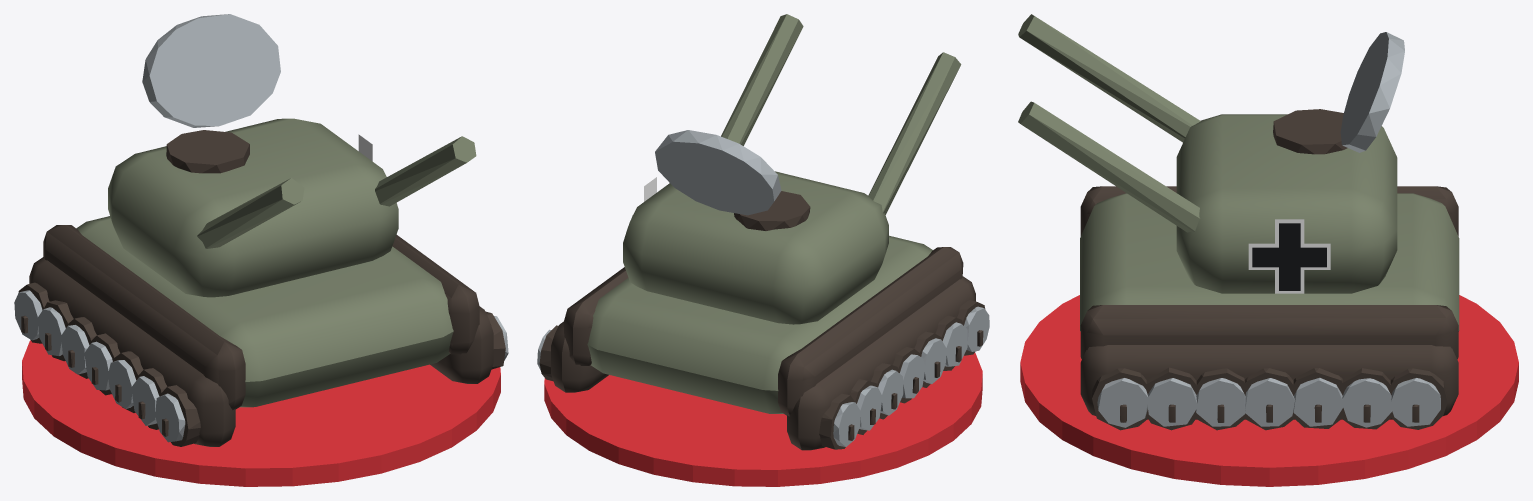
Rendered from germany_anti_aircraft_lod0.glb.
The picture shows the model from 3 angles, left to right: view 1: azimuth 30°, elevation 25°; view 2: azimuth 150°, elevation 25°; view 3: azimuth 270°, elevation 25°; orthographic projection. The views are drawn at different scales.
Visible parts, largest first — view 1: body_hull, base_pedestal; view 2: body_hull, base_pedestal; view 3: body_hull, base_pedestal.
Boxes of the visible parts, bbox=[...] form: body_hull: bbox=[14, 14, 508, 446]; base_pedestal: bbox=[22, 340, 500, 486]; body_hull: bbox=[537, 14, 989, 450]; base_pedestal: bbox=[544, 353, 982, 486]; body_hull: bbox=[1018, 14, 1459, 430]; base_pedestal: bbox=[1020, 295, 1518, 486].
Bounding box in the file's own units: 0.7766 × 0.5837 × 0.7802.
